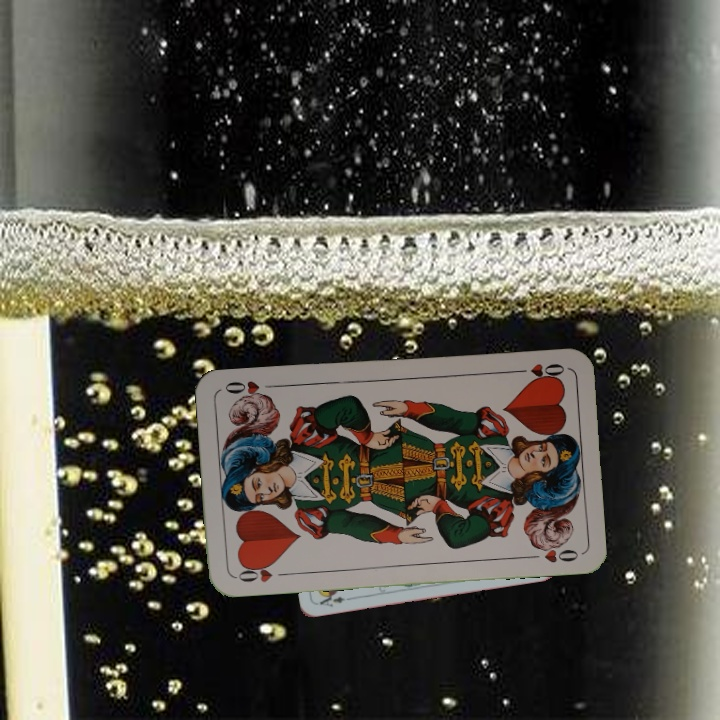EA: (315, 589, 355, 609)
HO: (232, 559, 291, 585), (509, 359, 567, 383)
